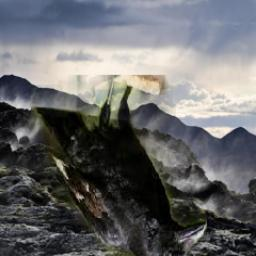Crow: (32, 75, 208, 256)
